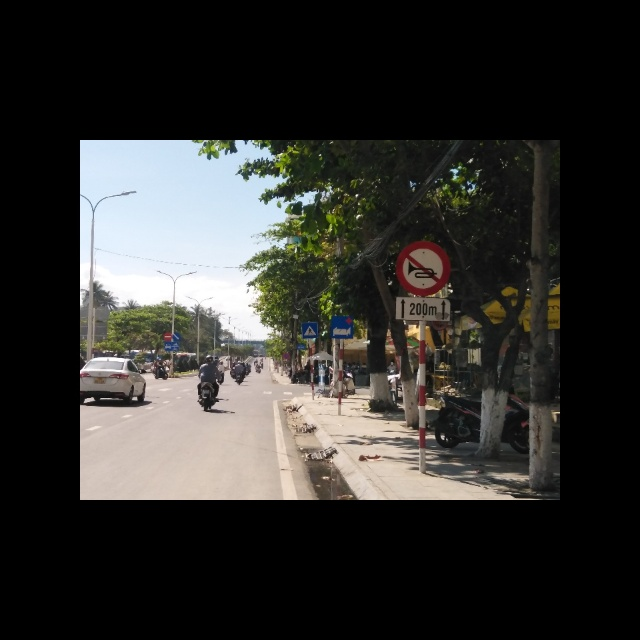Bệnh viện: (331, 316, 354, 337)
Cấm bấm còi: (395, 241, 452, 295)
Đường dành cho người đi bộ: (302, 322, 319, 338)
